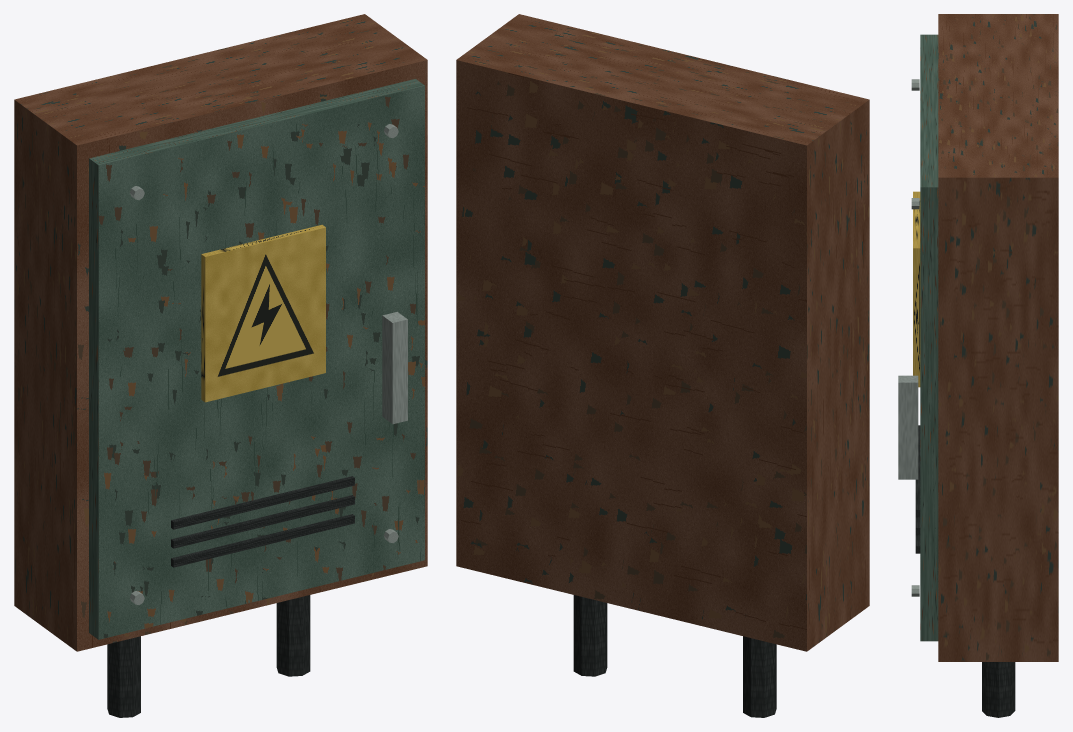
Rendered from FuseBox.glb.
3 renders of one model, left to right at view 1: azimuth 30°, elevation 25°; view 2: azimuth 150°, elevation 25°; view 3: azimuth 270°, elevation 25°, orthographic. The views are drawn at different scales.
Visible parts, largest first — view 1: FuseBox; view 2: FuseBox; view 3: FuseBox.
Part boxes in pixels (box(x1,y1,x2,y2)): FuseBox: box(14, 14, 427, 717); FuseBox: box(456, 14, 869, 717); FuseBox: box(898, 14, 1058, 717).
Bounding box in the file's own units: 0.58 × 0.96 × 0.24.
5 materials, 5 textured.
